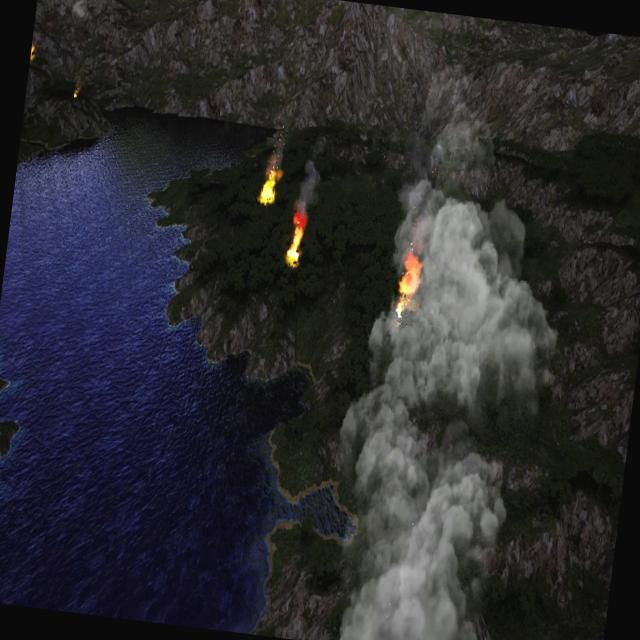fire: (392, 250, 424, 314), (284, 212, 306, 268), (258, 157, 282, 205), (72, 82, 80, 98), (30, 44, 36, 60)
smoke: (309, 184, 578, 640)
